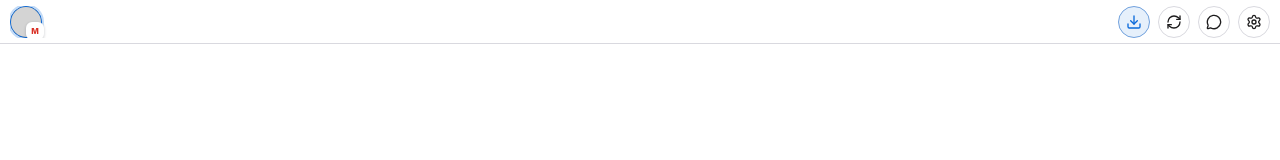
Test: App › downloads and opens the update from the app bar
The image size is (1280, 160).
Click the button named "Install update 0.1.2" at [1134, 22], box [1118,6,1150,38]
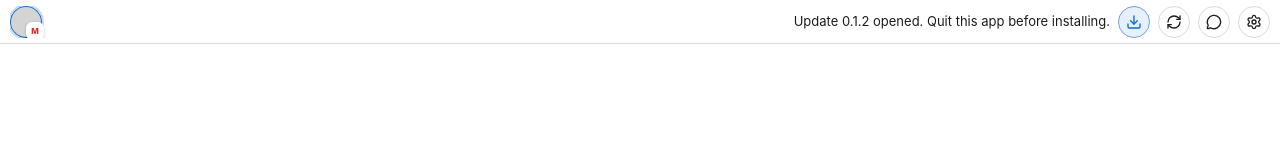
Check: the message reads "Update 0.1.2 opened. Quit this app before installing.", box [794,13,1110,29]
